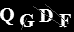D: (37, 8, 54, 23)
F: (57, 13, 71, 28)
G: (18, 12, 35, 28)
Q: (1, 7, 14, 26)
